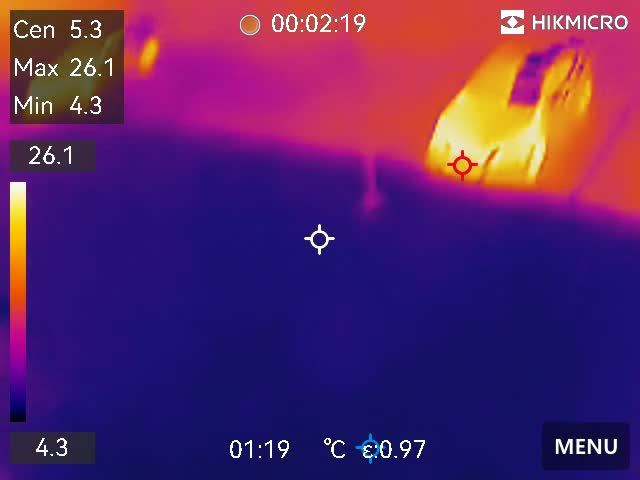smallCar: (418, 18, 587, 212)
